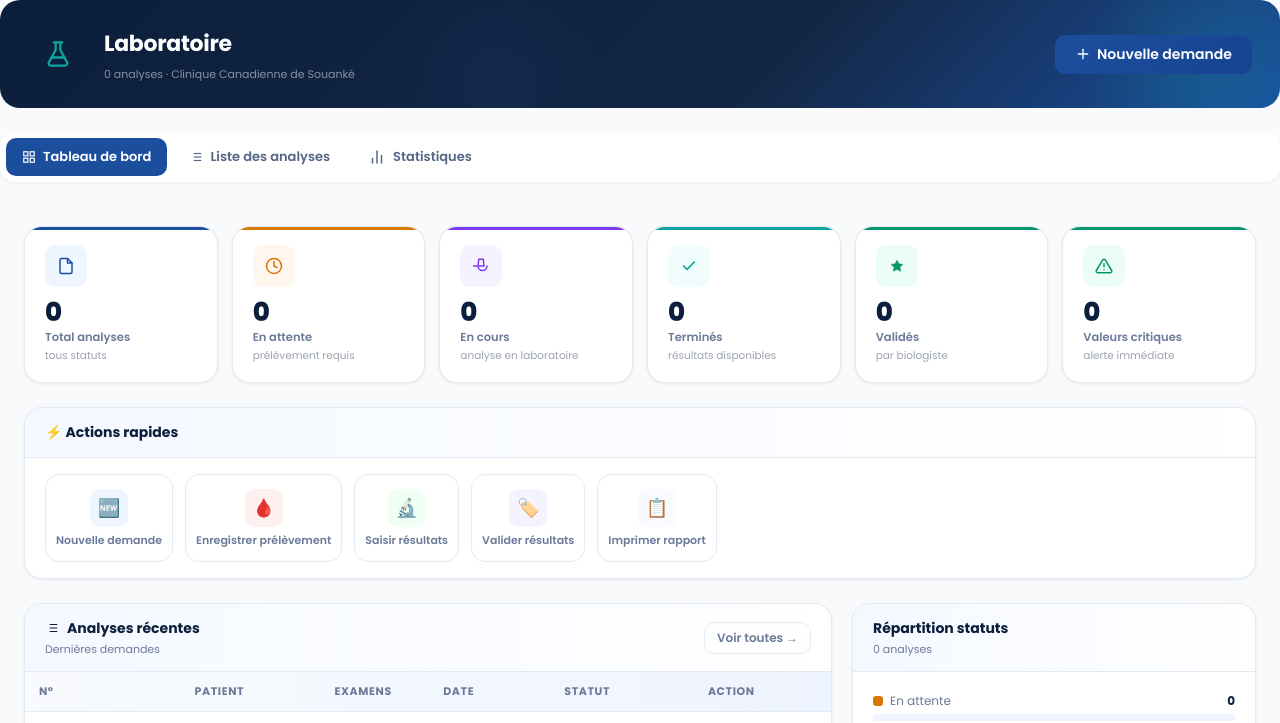
it: LAB-03 — la validation n'exige plus de texte libre "Technicien"/"Biologiste" jamais persisté, elle affiche l'identité réelle
The image size is (1280, 723).
expect the text "Tableau de bord" is shown: met, box [43,147,151,166]
Click the button "Liste des analyses".
click(260, 157)  # box [173,138,346,176]
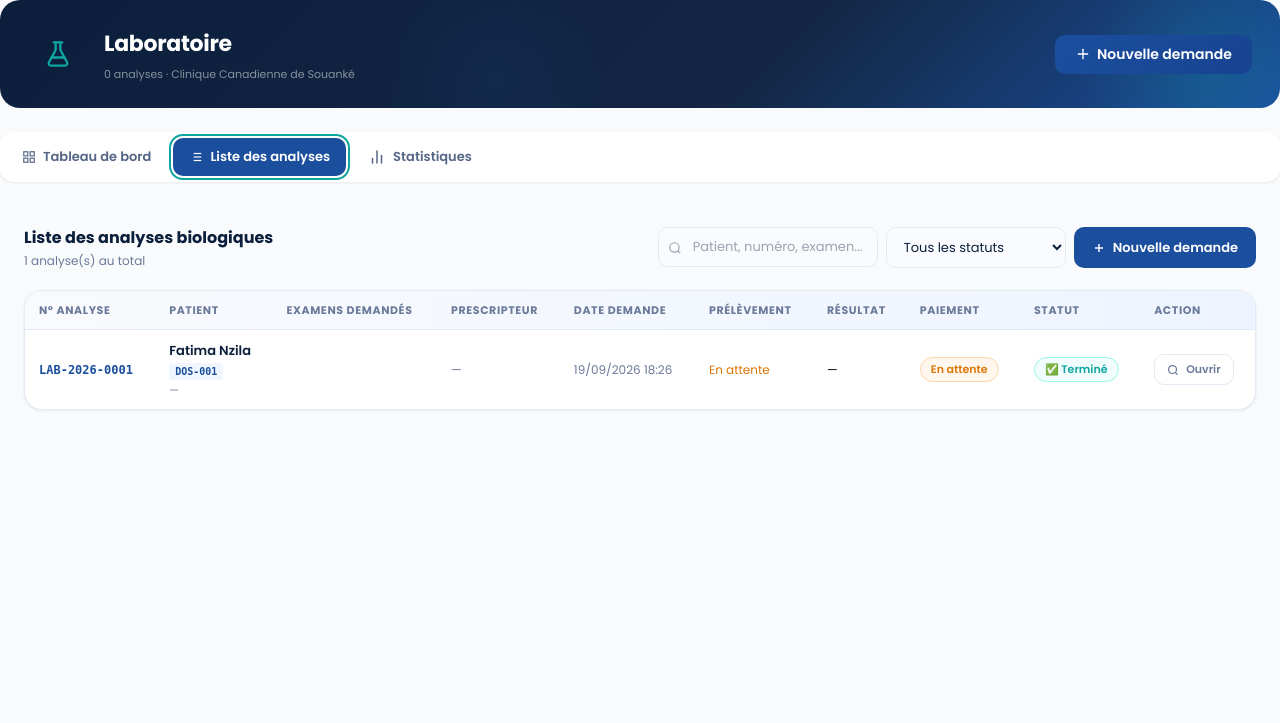
Click the button "Ouvrir".
click(1194, 370)  # box [1154,354,1234,385]
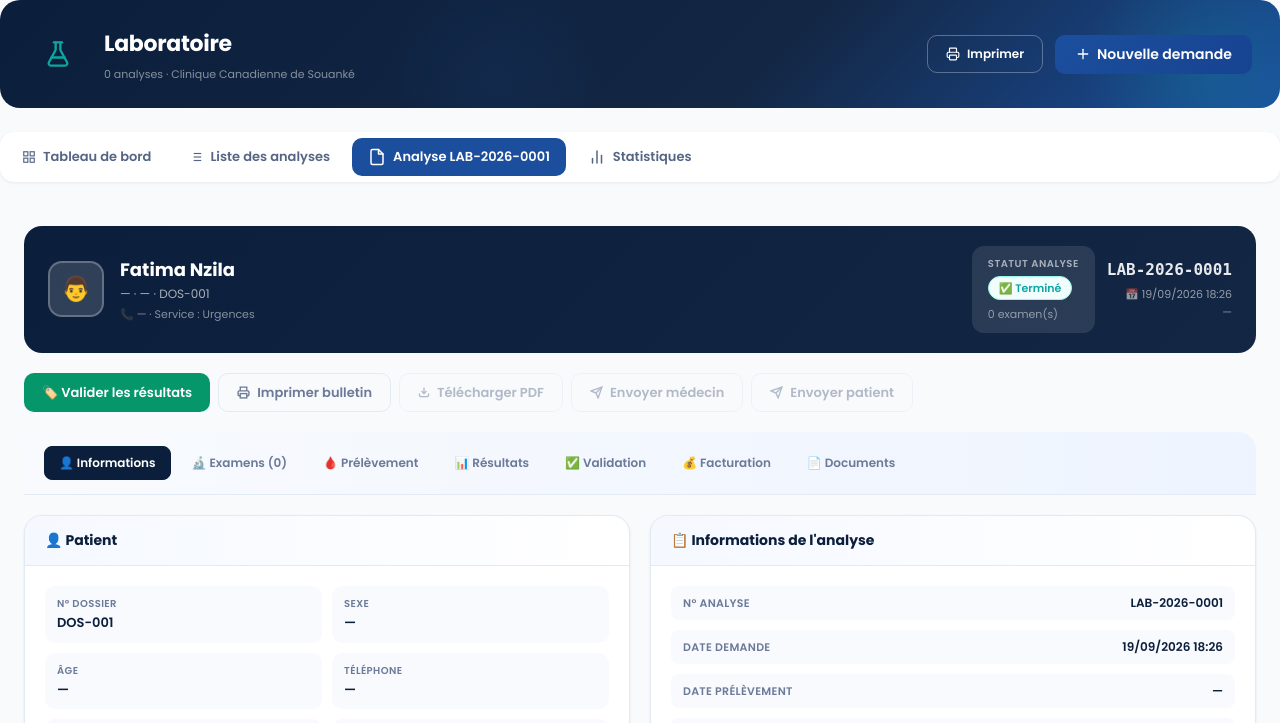
Click the button "✅ Validation".
click(606, 463)  # box [550,446,661,480]
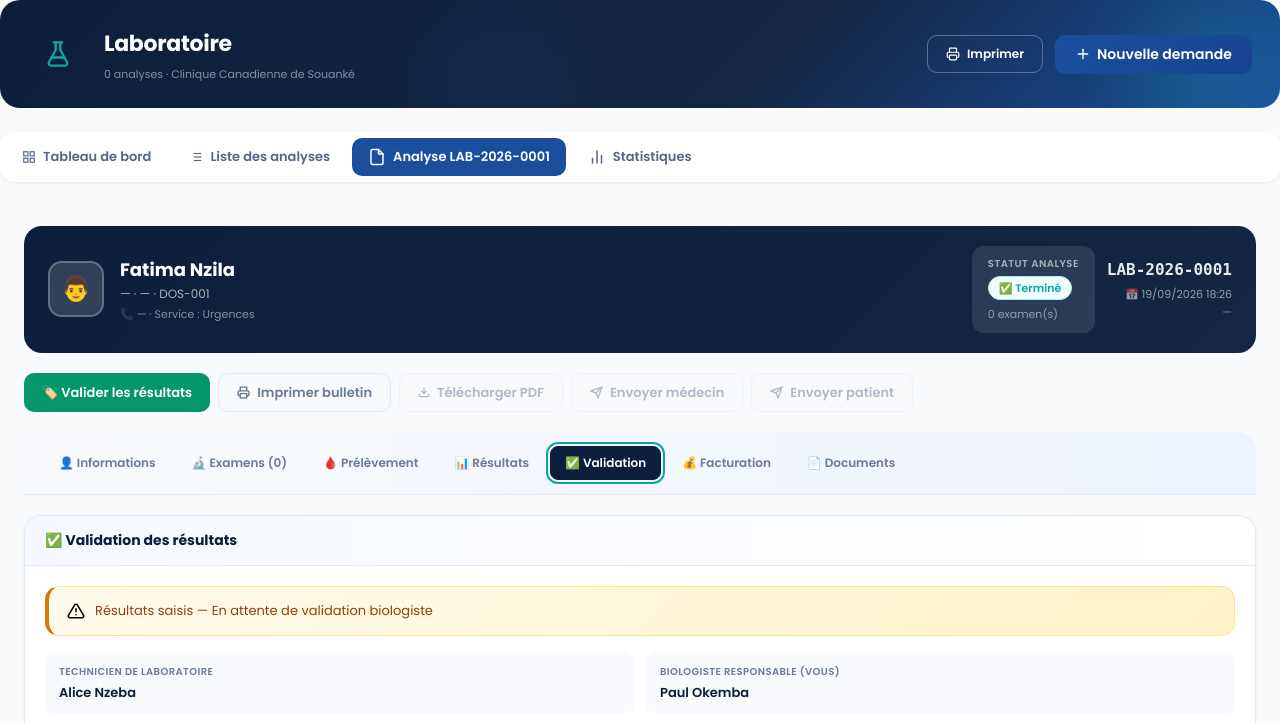
expect the text "Alice Nzeba" is shown: met, box [59,682,136,702]
expect the text "Paul Okemba" is shown: met, box [660,682,749,702]
